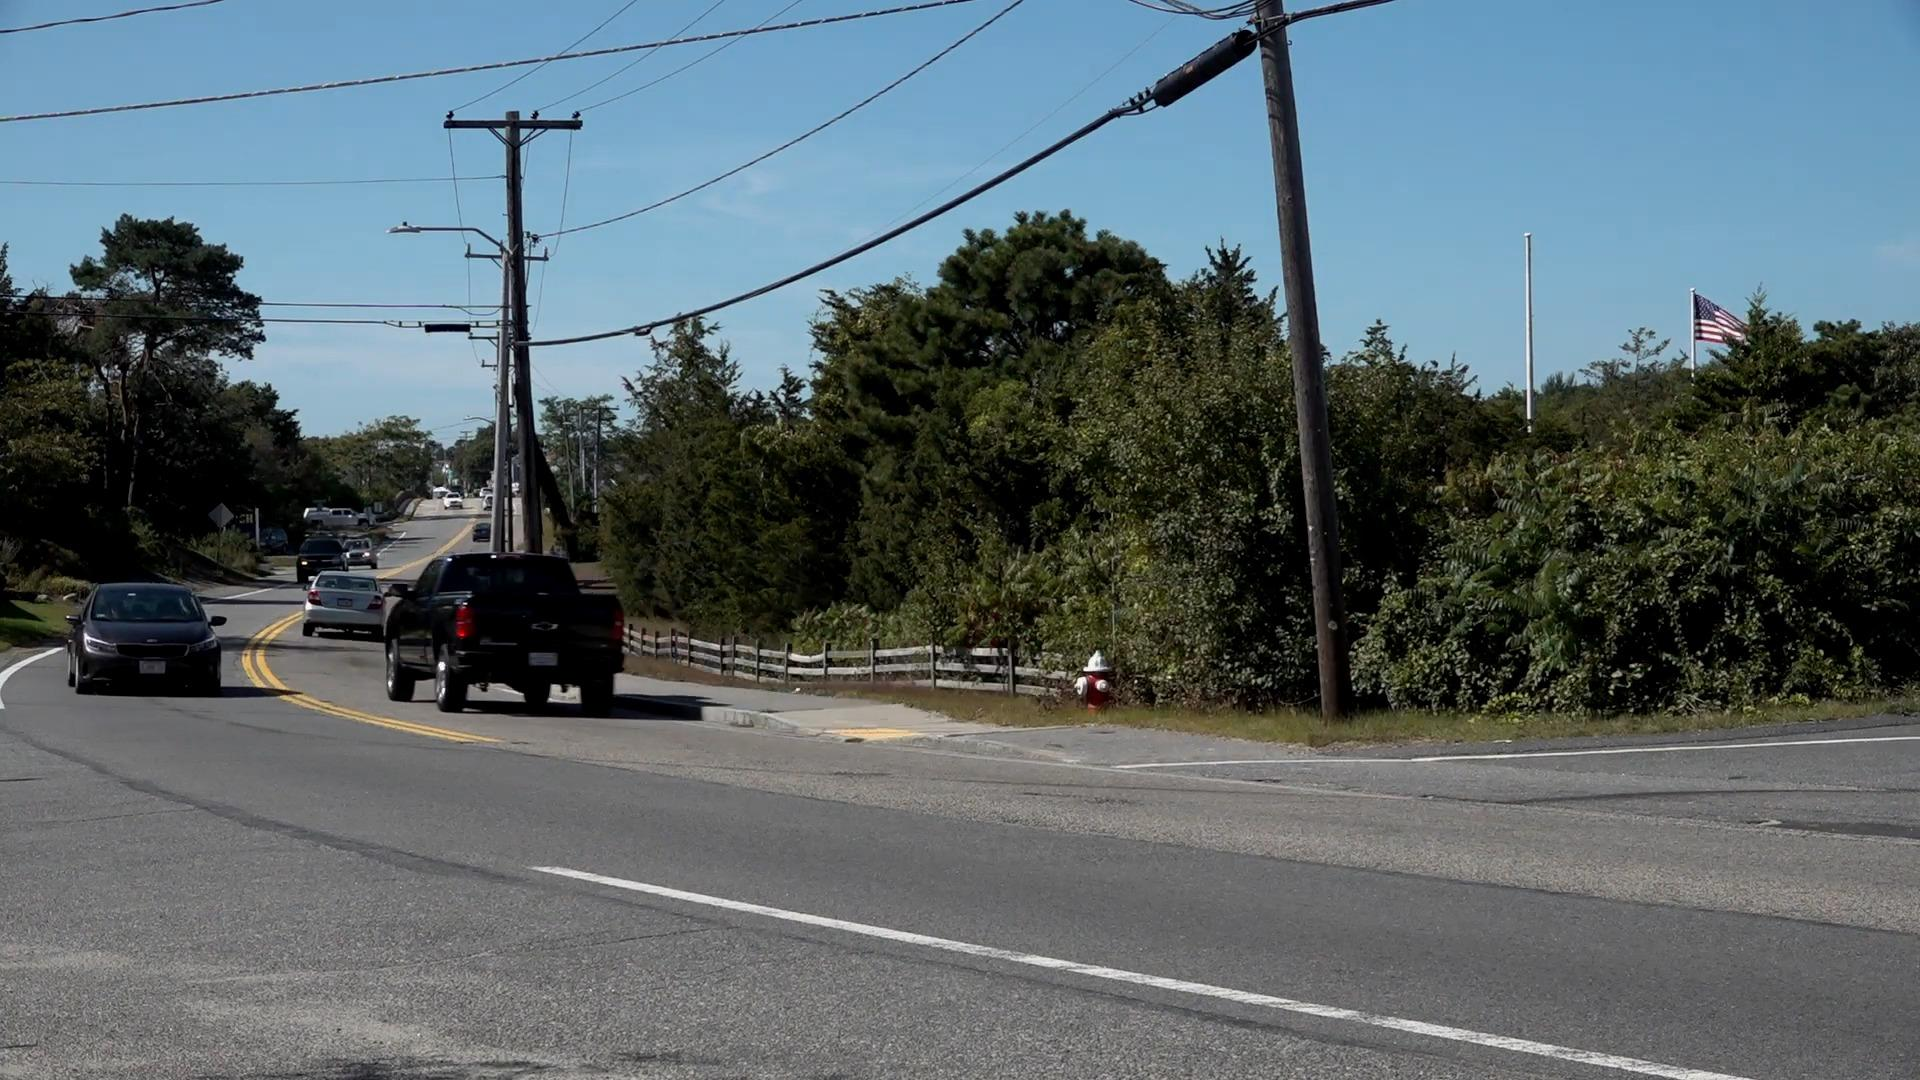pickup: (382, 552, 627, 722)
sedans: (72, 585, 225, 697)
